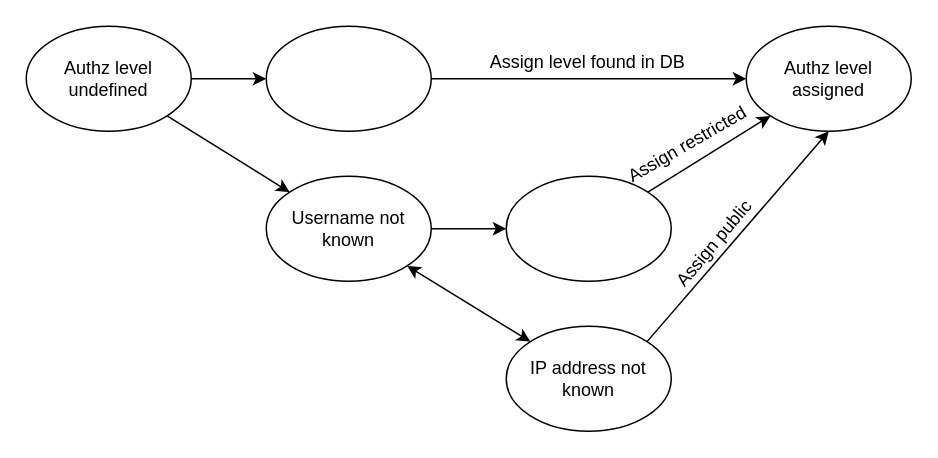
The diagram is 938 pixels wide and 458 high, and some of its shapes have lost their labels. The shapes that lost their labels are listed below. From the top down, each one's centre as x and y in pixels, then its label:
At point 348,78: "Username known".
At point 588,228: "IP address known".
